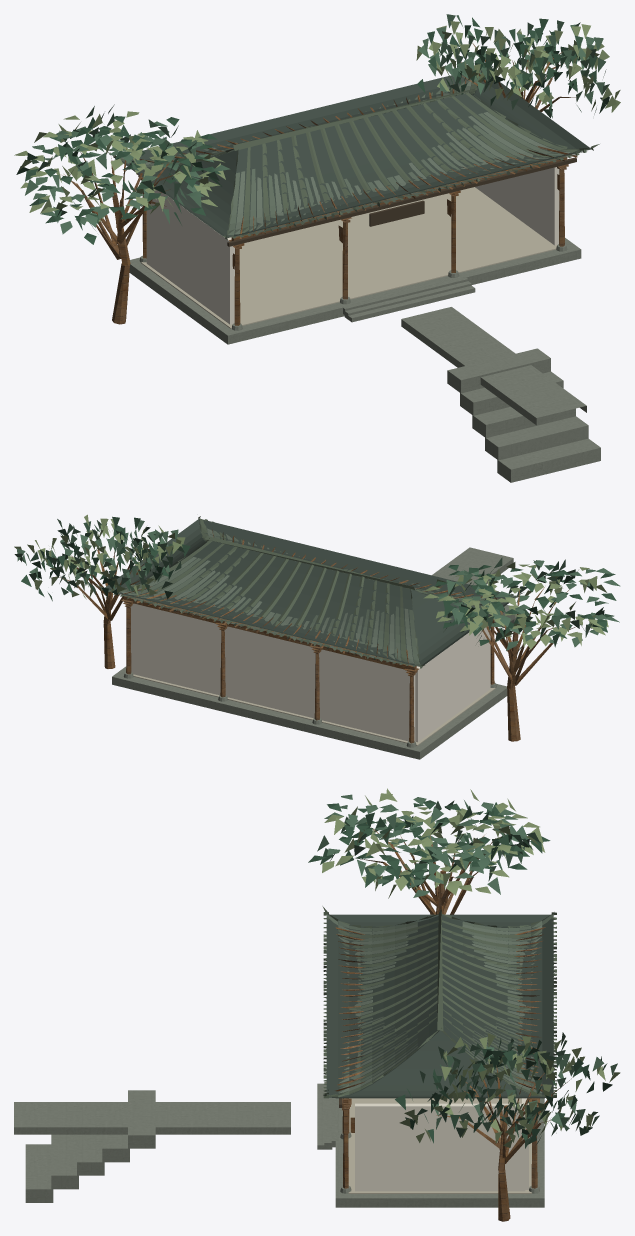
File: public_models_places-low_tubishanzhuang.glb
The picture shows the model from 3 angles, top to bottom: view 1: azimuth 30°, elevation 25°; view 2: azimuth 150°, elevation 25°; view 3: azimuth 270°, elevation 25°; orthographic projection. The views are drawn at different scales.
Parts seen in each view (by area): view 1: tubishanzhuang_roof, tubishanzhuang_stone, tubishanzhuang_paving, tubishanzhuang_plaster, tubishanzhuang_tiledark, tubishanzhuang_leaf, tubishanzhuang_lightleaf, tubishanzhuang_wood, tubishanzhuang_leafdark, tubishanzhuang_tile, tubishanzhuang_tilelight, tubishanzhuang_darkwood; view 2: tubishanzhuang_plaster, tubishanzhuang_roof, tubishanzhuang_wood, tubishanzhuang_stone, tubishanzhuang_tiledark, tubishanzhuang_leaf, tubishanzhuang_lightleaf, tubishanzhuang_leafdark, tubishanzhuang_tile, tubishanzhuang_tilelight, tubishanzhuang_paving; view 3: tubishanzhuang_roof, tubishanzhuang_stone, tubishanzhuang_plaster, tubishanzhuang_tiledark, tubishanzhuang_lightleaf, tubishanzhuang_leaf, tubishanzhuang_leafdark, tubishanzhuang_wood, tubishanzhuang_tile, tubishanzhuang_tilelight, tubishanzhuang_paving.
Boxes of the visible parts, x1,y1,x2,y2 form: tubishanzhuang_roof: [121, 70, 591, 237]; tubishanzhuang_stone: [129, 238, 600, 482]; tubishanzhuang_paving: [141, 187, 556, 328]; tubishanzhuang_plaster: [146, 167, 559, 324]; tubishanzhuang_tiledark: [108, 69, 599, 239]; tubishanzhuang_leaf: [25, 14, 609, 234]; tubishanzhuang_lightleaf: [14, 21, 620, 221]; tubishanzhuang_wood: [60, 43, 577, 325]; tubishanzhuang_leafdark: [16, 17, 609, 244]; tubishanzhuang_tile: [121, 81, 574, 237]; tubishanzhuang_tilelight: [144, 80, 582, 236]; tubishanzhuang_darkwood: [227, 157, 576, 246]; tubishanzhuang_plaster: [130, 603, 490, 742]; tubishanzhuang_roof: [105, 518, 516, 666]; tubishanzhuang_wood: [52, 529, 581, 743]; tubishanzhuang_stone: [112, 547, 520, 759]; tubishanzhuang_tiledark: [96, 516, 523, 668]; tubishanzhuang_leaf: [14, 519, 620, 655]; tubishanzhuang_lightleaf: [14, 514, 608, 649]; tubishanzhuang_leafdark: [21, 516, 616, 647]; tubishanzhuang_tile: [118, 530, 517, 666]; tubishanzhuang_tilelight: [111, 528, 493, 665]; tubishanzhuang_paving: [133, 674, 495, 745]; tubishanzhuang_roof: [326, 914, 553, 1098]; tubishanzhuang_stone: [14, 1081, 544, 1207]; tubishanzhuang_plaster: [355, 1098, 528, 1191]; tubishanzhuang_tiledark: [322, 906, 556, 1098]; tubishanzhuang_lightleaf: [322, 788, 620, 1147]; tubishanzhuang_leaf: [317, 794, 617, 1148]; tubishanzhuang_leafdark: [308, 800, 612, 1145]; tubishanzhuang_wood: [335, 823, 573, 1221]; tubishanzhuang_tile: [326, 914, 553, 1089]; tubishanzhuang_tilelight: [326, 924, 553, 1093]; tubishanzhuang_paving: [348, 1098, 531, 1193].
Bounding box in the file's own units: 34.52 × 12.69 × 28.48.
12 materials, 2 textured.
